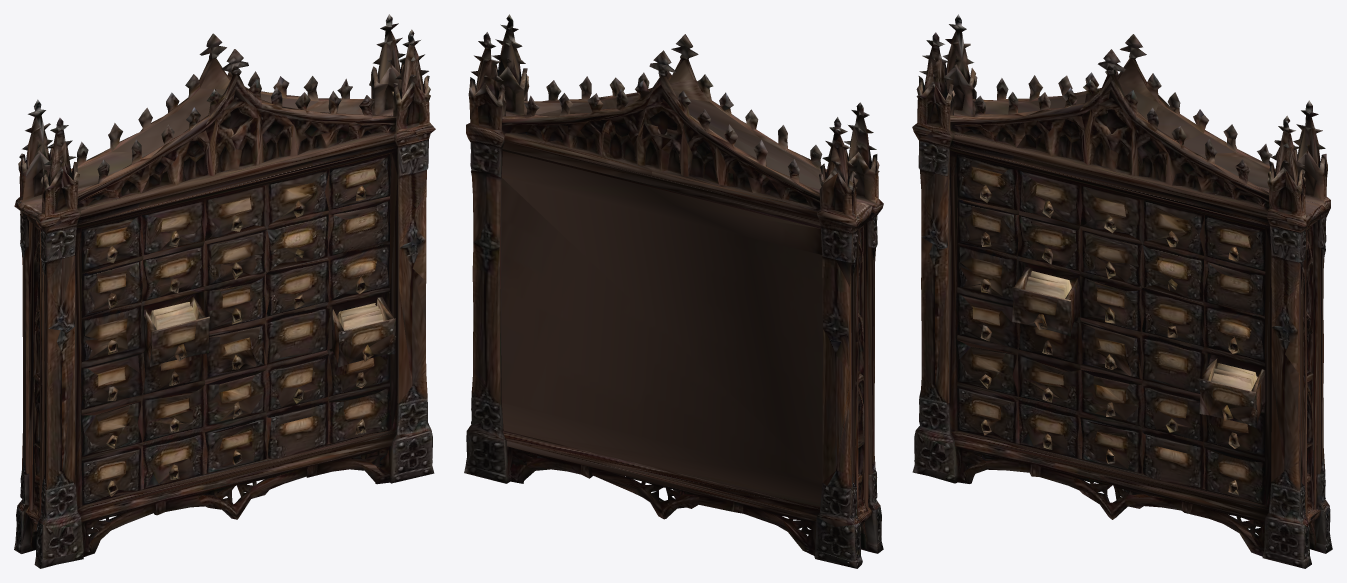
The model's file is shelf_drawers.glb.
3 views of the same model, side by side, from view 1: azimuth 30°, elevation 25°; view 2: azimuth 150°, elevation 25°; view 3: azimuth 330°, elevation 25° (orthographic).
Visible parts, largest first — view 1: shelf_drawers; view 2: shelf_drawers; view 3: shelf_drawers.
Part boxes in pixels (box(x1,y1,x2,y2)): shelf_drawers: box(14, 14, 435, 568); shelf_drawers: box(464, 14, 883, 568); shelf_drawers: box(912, 14, 1332, 568).
Bounding box in the file's own units: 2.9 × 3.3 × 0.42.
1 material, 1 textured.
